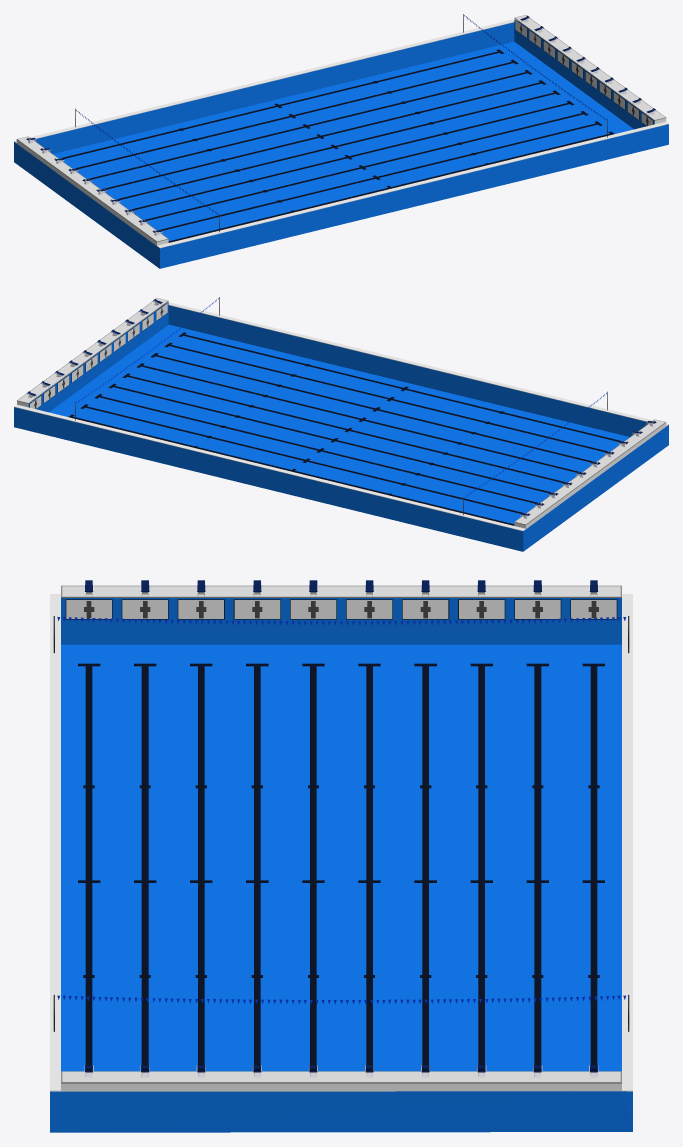
3 views of the same model, one above another, from view 1: azimuth 30°, elevation 25°; view 2: azimuth 150°, elevation 25°; view 3: azimuth 270°, elevation 25° (orthographic). The views are drawn at different scales.
Visible parts, largest first — view 1: Lineas_Fondo_Piscina; view 2: Lineas_Fondo_Piscina; view 3: Lineas_Fondo_Piscina.
Part boxes in pixels (<box>): Lineas_Fondo_Piscina: <box>14,14,668,268</box>; Lineas_Fondo_Piscina: <box>14,297,668,551</box>; Lineas_Fondo_Piscina: <box>50,580,632,1132</box>.
Bounding box in the file's own units: 52.41 × 26 × 3.87.
